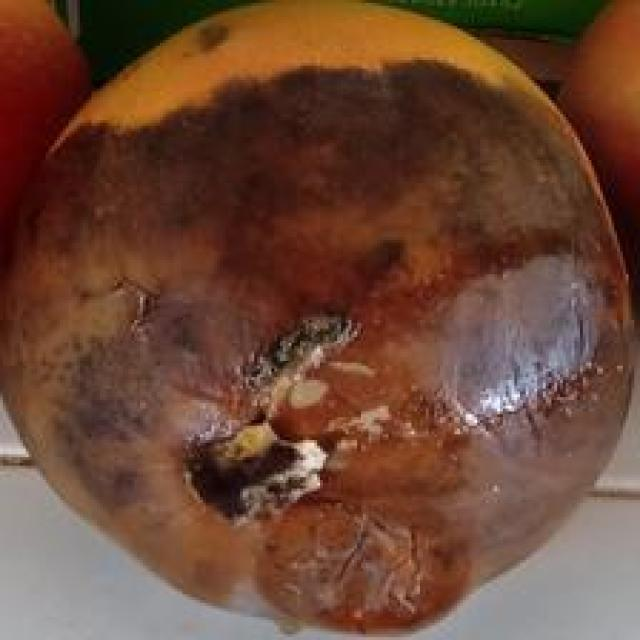Bad_Mango: (0, 5, 630, 629)
